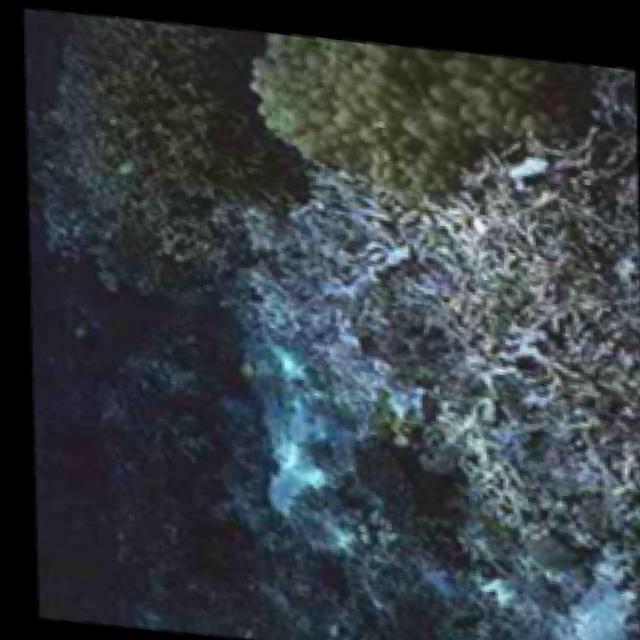Dead Coral: (270, 173, 640, 524)
